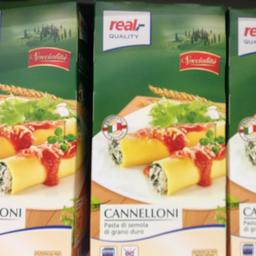pasta: (90, 0, 228, 254), (0, 0, 88, 255)
